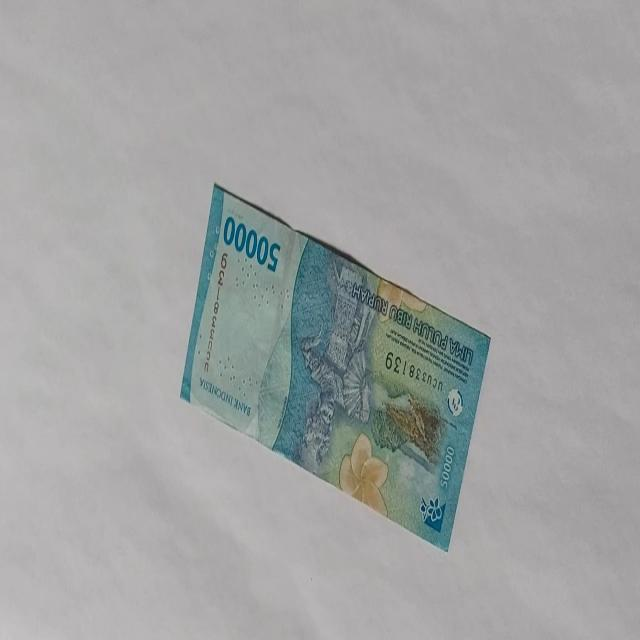lima puluh ribu rupiah: (178, 180, 492, 553), (222, 214, 281, 274)
